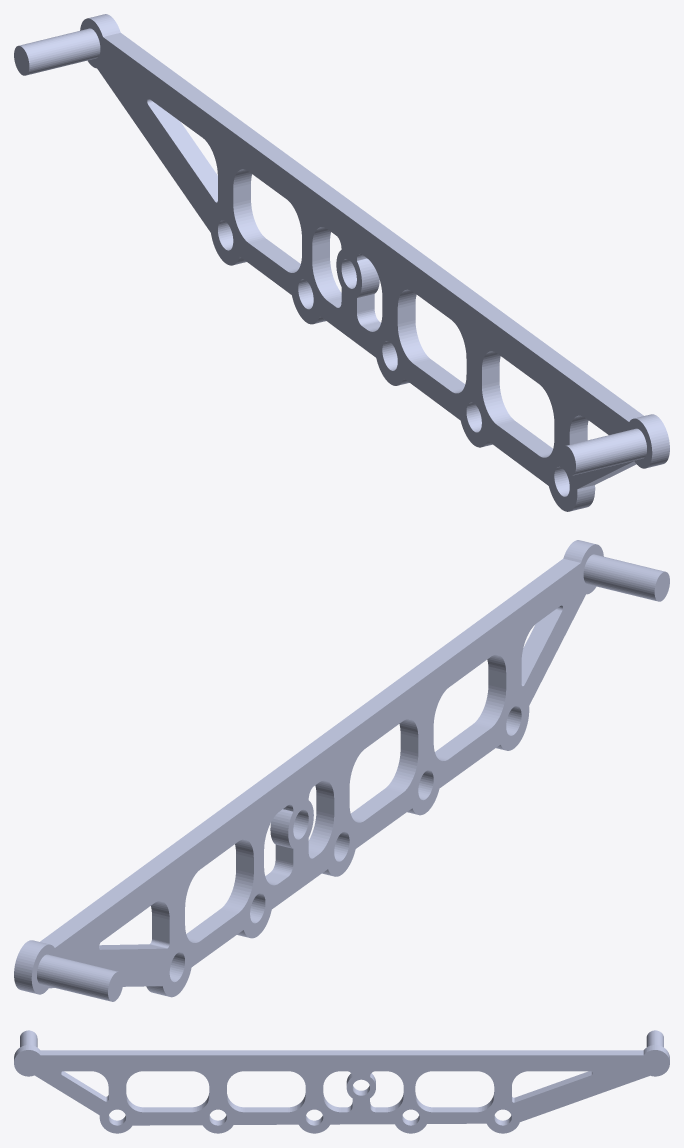
File: Perfil_DerechoV1.1.dae
3 renders of one model, top to bottom at view 1: azimuth 30°, elevation 25°; view 2: azimuth 150°, elevation 25°; view 3: azimuth 270°, elevation 25°, orthographic. The views are drawn at different scales.
Visible parts, largest first — view 1: ID2; view 2: ID2; view 3: ID2.
Boxes of the visible parts, x1,y1,x2,y2 form: ID2: [14, 14, 669, 511]; ID2: [14, 540, 669, 1001]; ID2: [14, 1030, 669, 1133].
Size of the model in its own units: 0.05 by 0.5579 by 0.0785.
